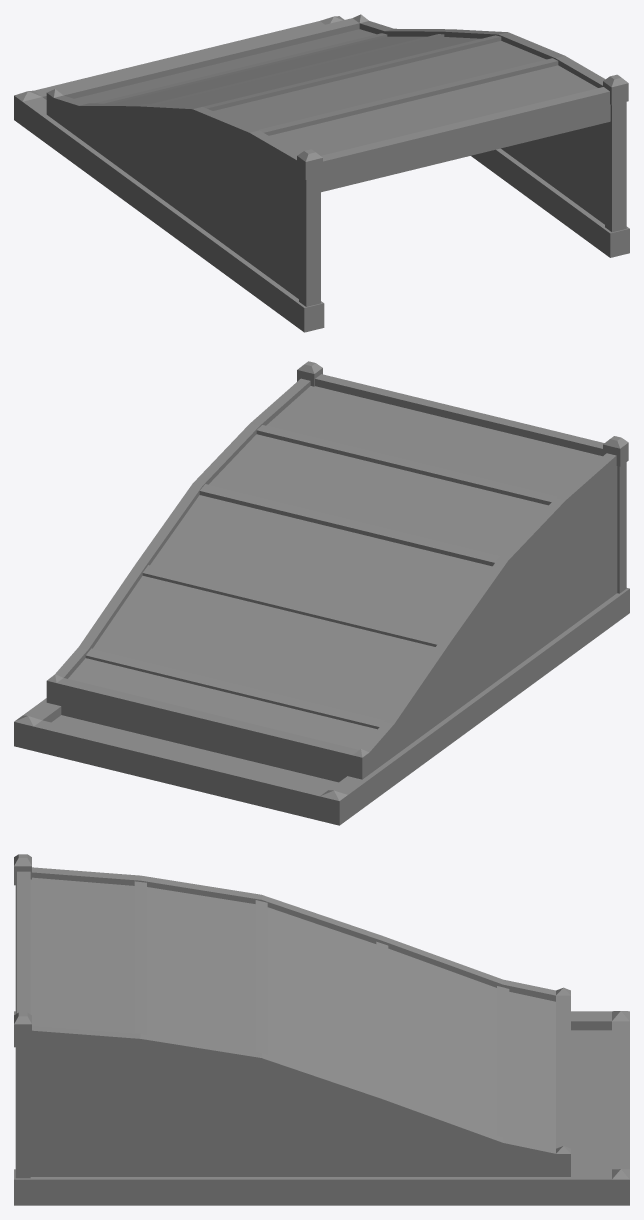
The model's file is SW_ENV_StreetEntrance_02_Collision.fbx.
3 renders of one model, top to bottom at view 1: azimuth 30°, elevation 25°; view 2: azimuth 150°, elevation 25°; view 3: azimuth 270°, elevation 25°, orthographic. The views are drawn at different scales.
Parts seen in each view (by area): view 1: SW_ENV_StreetEntrance_02_Collision; view 2: SW_ENV_StreetEntrance_02_Collision; view 3: SW_ENV_StreetEntrance_02_Collision.
Boxes of the visible parts, x1,y1,x2,y2 form: SW_ENV_StreetEntrance_02_Collision: (14, 14, 629, 332); SW_ENV_StreetEntrance_02_Collision: (14, 361, 629, 825); SW_ENV_StreetEntrance_02_Collision: (14, 854, 629, 1205).
Bounding box in the file's own units: 6.6 × 3.4 × 10.2.
